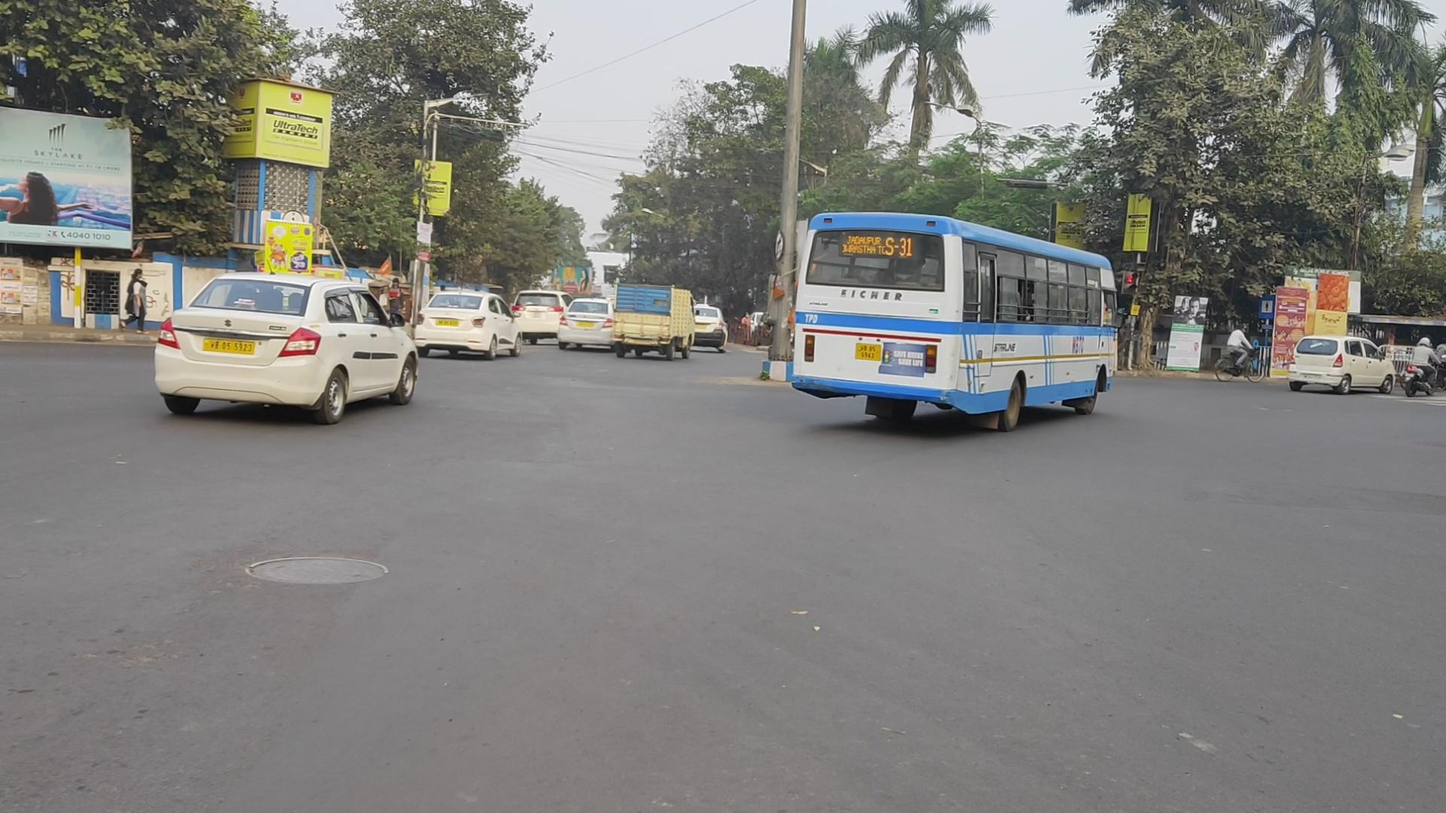Bus: (792, 212, 1118, 432)
bike: (1213, 323, 1268, 383), (1402, 337, 1444, 397)
car: (154, 273, 418, 425), (413, 290, 522, 361), (1288, 335, 1396, 395), (511, 288, 573, 347), (558, 297, 621, 355), (692, 303, 730, 355)
van: (612, 281, 695, 362)
